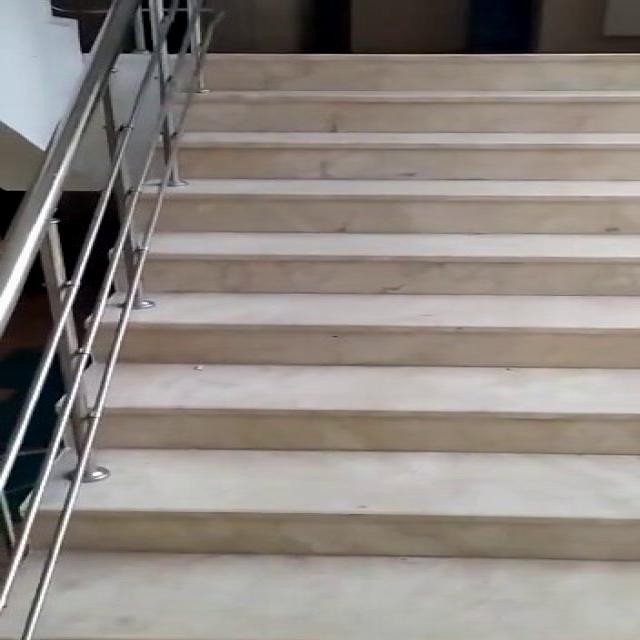stair: (63, 45, 640, 640)
